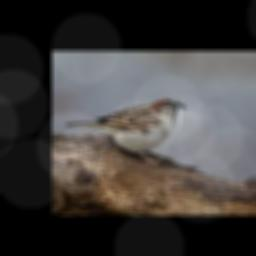Sparrow: (65, 97, 186, 164)
